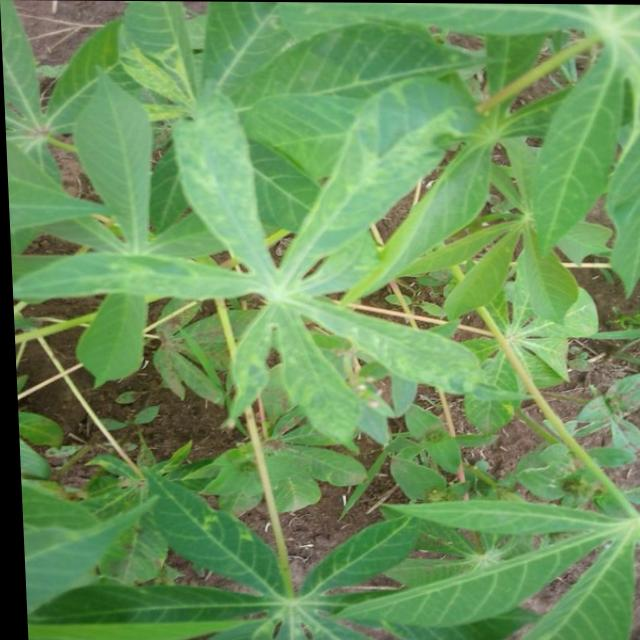Mosaico: (160, 128, 443, 405), (92, 29, 293, 207)
